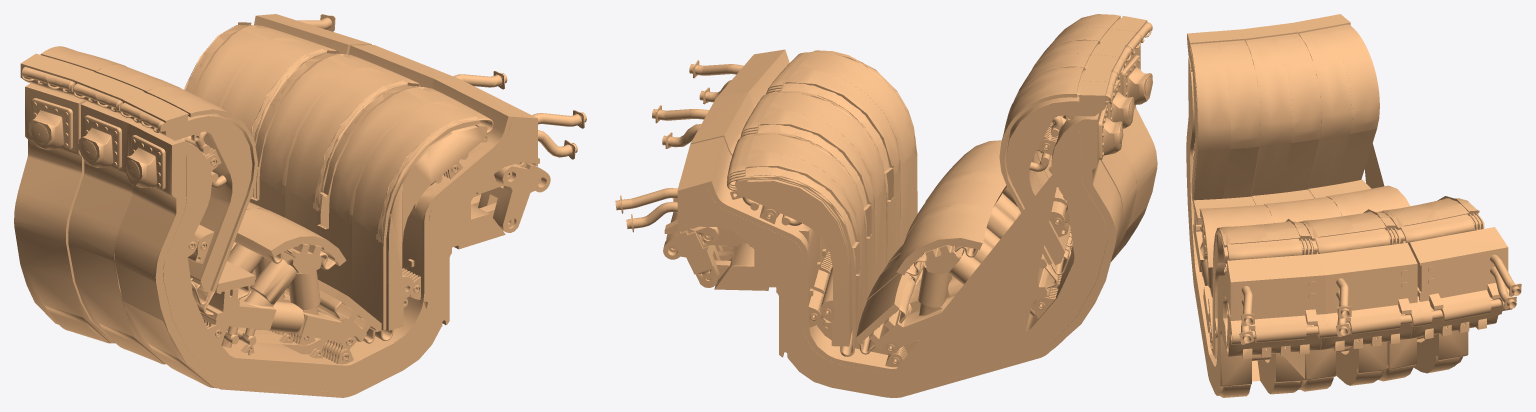
The picture shows the model from 3 angles, left to right: view 1: azimuth 30°, elevation 25°; view 2: azimuth 150°, elevation 25°; view 3: azimuth 270°, elevation 25°; orthographic projection. The views are drawn at different scales.
Visible parts, largest first — view 1: ITER_MESH__divertor; view 2: ITER_MESH__divertor; view 3: ITER_MESH__divertor.
Boxes of the visible parts, left/top/right/bottom form: ITER_MESH__divertor: left=14, top=14, right=586, bottom=397; ITER_MESH__divertor: left=615, top=14, right=1157, bottom=397; ITER_MESH__divertor: left=1186, top=14, right=1521, bottom=397.
Bounding box in the file's own units: 3.96 × 2.47 × 2.77.
